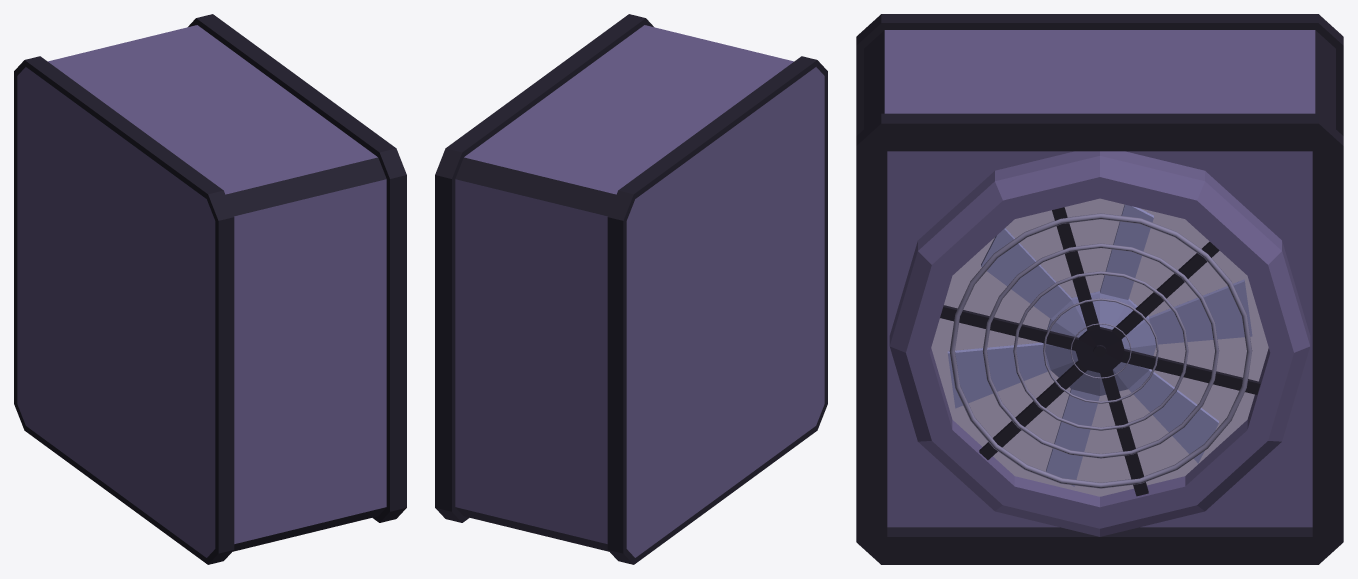
The model's file is Vent.fbx.
3 views of the same model, side by side, from view 1: azimuth 30°, elevation 25°; view 2: azimuth 150°, elevation 25°; view 3: azimuth 270°, elevation 25° (orthographic). The views are drawn at different scales.
Visible parts, largest first — view 1: Vent; view 2: Vent; view 3: Vent, Fan.
Boxes of the visible parts, left/top/right/bottom form: Vent: left=14, top=14, right=406, bottom=564; Vent: left=435, top=14, right=827, bottom=564; Vent: left=856, top=14, right=1343, bottom=564; Fan: left=947, top=204, right=1252, bottom=486.
Size of the model in its own units: 0.433 by 0.7634 by 0.7634.
